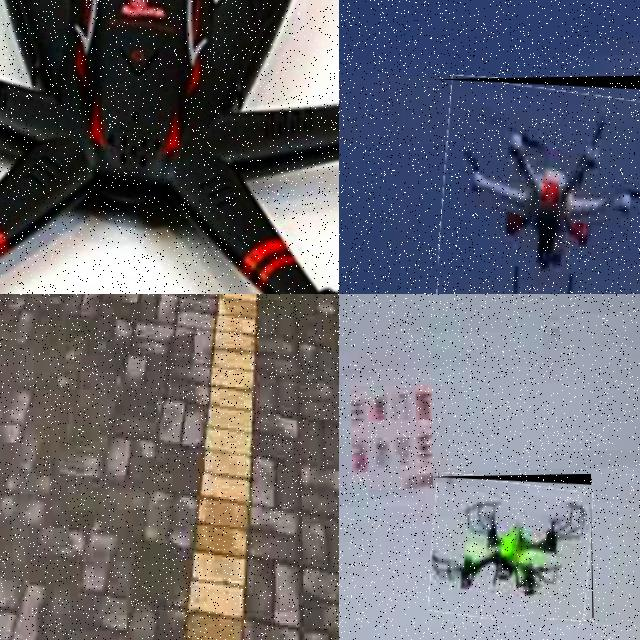drone: (0, 0, 339, 294), (434, 74, 640, 294), (429, 474, 593, 620)
